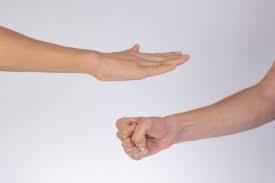paper: (87, 38, 198, 92)
rock: (107, 110, 179, 161)
